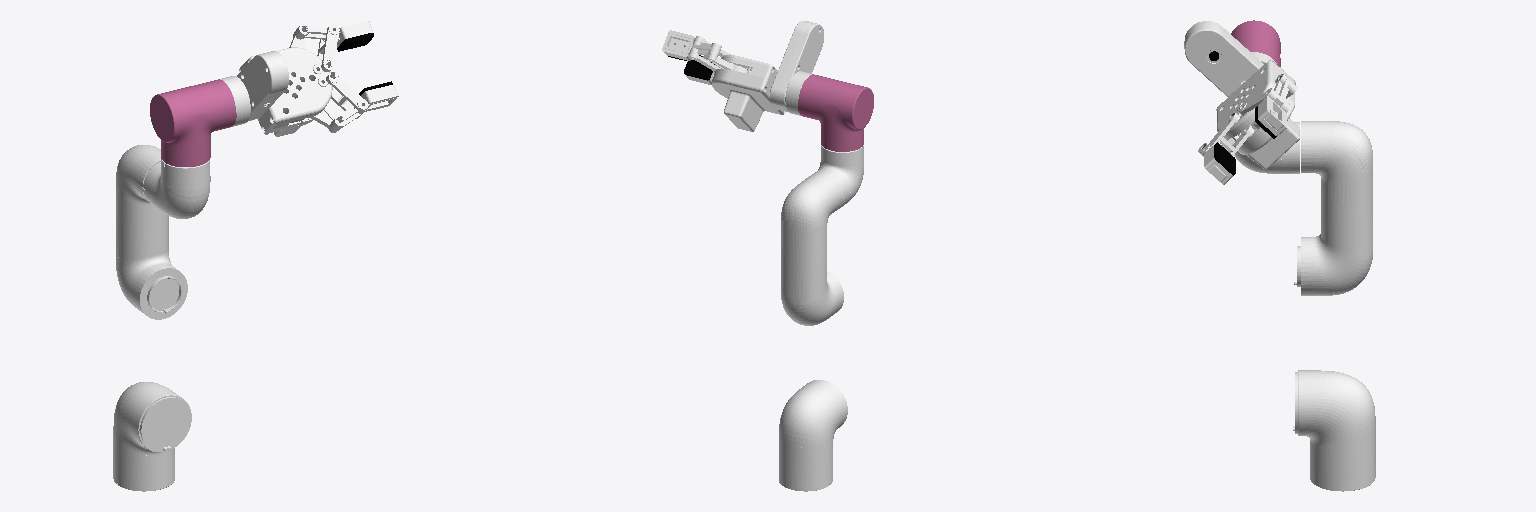
robot.urdf — mycobot_280_jn:
<?xml version="1.0"?>
<robot name="mycobot_280_jn">
  <link name="world"/>
  <joint name="world_to_joint1" type="fixed"><parent link="world"/><child link="joint1"/><origin xyz="0 0 0" rpy="0 0 0"/></joint>

  <link name="joint1">
    <visual>
      <geometry><mesh filename="package://positronic_description/urdf/mycobot_280_jn_sim/meshes/visual/joint1.dae"/></geometry>
    </visual>
    <collision>
      <geometry><mesh filename="package://positronic_description/urdf/mycobot_280_jn_sim/meshes/collision/joint1.stl"/></geometry>
    </collision>
    <inertial>
      <origin xyz="-0.000007 -0.000080 0.049738" rpy="0 0 0"/>
      <mass value="0.50875"/>
      <inertia ixx="1.2317e-03" ixy="6.9182e-09" ixz="-6.2406e-08" iyy="9.2410e-04" iyz="1.1339e-06" izz="1.1863e-03"/>
    </inertial>
  </link>
  <link name="joint2">
    <visual>
      <geometry><mesh filename="package://positronic_description/urdf/mycobot_280_jn_sim/meshes/visual/joint2.dae"/></geometry>
    </visual>
    <collision>
      <geometry><mesh filename="package://positronic_description/urdf/mycobot_280_jn_sim/meshes/collision/joint2.stl"/></geometry>
    </collision>
    <inertial>
      <origin xyz="-0.000000 -0.006642 -0.021543" rpy="0 0 0"/>
      <mass value="0.06376"/>
      <inertia ixx="4.6518e-05" ixy="-1.4217e-10" ixz="4.0220e-11" iyy="4.1988e-05" iyz="5.2079e-06" izz="2.3962e-05"/>
    </inertial>
  </link>
  <link name="joint3">
    <visual>
      <geometry><mesh filename="package://positronic_description/urdf/mycobot_280_jn_sim/meshes/visual/joint3.dae"/></geometry>
    </visual>
    <collision>
      <geometry><mesh filename="package://positronic_description/urdf/mycobot_280_jn_sim/meshes/collision/joint3.stl"/></geometry>
    </collision>
    <inertial>
      <origin xyz="-0.054329 -0.000001 0.055329" rpy="0 0 0"/>
      <mass value="0.11283"/>
      <inertia ixx="4.0982e-05" ixy="-4.4556e-09" ixz="-7.0957e-07" iyy="2.1152e-04" iyz="-8.7142e-10" izz="2.0504e-04"/>
    </inertial>
  </link>
  <link name="joint4">
    <visual>
      <geometry><mesh filename="package://positronic_description/urdf/mycobot_280_jn_sim/meshes/visual/joint4.dae"/></geometry>
    </visual>
    <collision>
      <geometry><mesh filename="package://positronic_description/urdf/mycobot_280_jn_sim/meshes/collision/joint4.stl"/></geometry>
    </collision>
    <inertial>
      <origin xyz="-0.045854 0.000000 0.007555" rpy="0 0 0"/>
      <mass value="0.08998"/>
      <inertia ixx="3.0322e-05" ixy="2.4186e-09" ixz="-2.9578e-06" iyy="1.3482e-04" iyz="1.3086e-09" izz="1.2647e-04"/>
    </inertial>
  </link>
  <link name="joint5">
    <visual>
      <geometry><mesh filename="package://positronic_description/urdf/mycobot_280_jn_sim/meshes/visual/joint5.dae"/></geometry>
    </visual>
    <collision>
      <geometry><mesh filename="package://positronic_description/urdf/mycobot_280_jn_sim/meshes/collision/joint5.stl"/></geometry>
    </collision>
    <inertial>
      <origin xyz="0.000001 -0.009519 -0.008481" rpy="0 0 0"/>
      <mass value="0.02887"/>
      <inertia ixx="1.1107e-05" ixy="2.2157e-10" ixz="1.0327e-10" iyy="8.0087e-06" iyz="1.5831e-06" izz="8.7282e-06"/>
    </inertial>
  </link>
  <link name="joint6">
    <visual>
      <geometry><mesh filename="package://positronic_description/urdf/mycobot_280_jn_sim/meshes/visual/joint6.dae"/></geometry>
    </visual>
    <collision>
      <geometry><mesh filename="package://positronic_description/urdf/mycobot_280_jn_sim/meshes/collision/joint6.stl"/></geometry>
    </collision>
    <inertial>
      <origin xyz="-0.000000 0.005619 -0.009142" rpy="0 0 0"/>
      <mass value="0.03611"/>
      <inertia ixx="1.6575e-05" ixy="1.3007e-11" ixz="9.1115e-11" iyy="1.1852e-05" iyz="-8.2298e-07" izz="1.2374e-05"/>
    </inertial>
  </link>
  <link name="joint6_flange">
    <visual>
      <geometry><mesh filename="package://positronic_description/urdf/mycobot_280_jn_sim/meshes/visual/joint6_flange.dae"/></geometry>
    </visual>
    <collision>
      <geometry><mesh filename="package://positronic_description/urdf/mycobot_280_jn_sim/meshes/collision/joint6_flange.stl"/></geometry>
    </collision>
    <inertial>
      <origin xyz="-0.000000 -0.000000 -0.005150" rpy="0 0 0"/>
      <mass value="0.00556"/>
      <inertia ixx="5.9851e-07" ixy="-5.1008e-24" ixz="1.4442e-24" iyy="5.9851e-07" iyz="-7.4388e-16" izz="1.0234e-06"/>
    </inertial>
  </link>
  <joint name="joint2_to_joint1" type="revolute">
    <parent link="joint1"/><child link="joint2"/>
    <origin xyz="0 0 0.15756" rpy="0 0 0"/>
    <axis xyz="0 0 1"/>
    <limit effort="10.0" lower="-2.9321" upper="2.9321" velocity="2.618"/>
    <dynamics damping="0.1" friction="0.01"/>
  </joint>
  <joint name="joint3_to_joint2" type="revolute">
    <parent link="joint2"/><child link="joint3"/>
    <origin xyz="0 0 -0.001" rpy="0 1.5708 -1.5708"/>
    <axis xyz="0 0 1"/>
    <limit effort="10.0" lower="-2.4434" upper="2.4434" velocity="2.618"/>
    <dynamics damping="0.1" friction="0.01"/>
  </joint>
  <joint name="joint4_to_joint3" type="revolute">
    <parent link="joint3"/><child link="joint4"/>
    <origin xyz="-0.1104 0 0" rpy="0 0 0"/>
    <axis xyz="0 0 1"/>
    <limit effort="10.0" lower="-2.6179" upper="2.6179" velocity="2.618"/>
    <dynamics damping="0.1" friction="0.01"/>
  </joint>
  <joint name="joint5_to_joint4" type="revolute">
    <parent link="joint4"/><child link="joint5"/>
    <origin xyz="-0.096 0 0.06462" rpy="0 0 -1.5708"/>
    <axis xyz="0 0 1"/>
    <limit effort="10.0" lower="-2.6179" upper="2.6179" velocity="2.618"/>
    <dynamics damping="0.1" friction="0.01"/>
  </joint>
  <joint name="joint6_to_joint5" type="revolute">
    <parent link="joint5"/><child link="joint6"/>
    <origin xyz="0 -0.07318 0" rpy="1.5708 -1.5708 0"/>
    <axis xyz="0 0 1"/>
    <limit effort="10.0" lower="-2.7052" upper="2.7925" velocity="2.618"/>
    <dynamics damping="0.1" friction="0.01"/>
  </joint>
  <joint name="joint6output_to_joint6" type="revolute">
    <parent link="joint6"/><child link="joint6_flange"/>
    <origin xyz="0 0.0456 0" rpy="-1.5708 0.7854 0"/>
    <axis xyz="0 0 1"/>
    <limit effort="10.0" lower="-3.14159" upper="3.14159" velocity="2.618"/>
    <dynamics damping="0.1" friction="0.01"/>
  </joint>
  <joint name="joint6output_to_gripper_base" type="fixed">
    <parent link="joint6_flange"/><child link="gripper_base"/>
    <!-- Mounted as on the real arm: turned 180 deg on the flange, checked at joint 6 = 0 with
         the gripper mounted (#94, docs/03_verification/joint6_zero). -->
    <origin xyz="0 0 0.0505" rpy="1.5708 0 3.1416"/>
  </joint>
  <link name="gripper_base">
    <visual>
      <geometry><mesh filename="package://positronic_description/urdf/mycobot_280_jn_sim/meshes/visual/gripper_base.dae"/></geometry>
    </visual>
    <collision>
      <geometry><mesh filename="package://positronic_description/urdf/mycobot_280_jn_sim/meshes/collision/gripper_base.stl"/></geometry>
    </collision>
    <inertial>
      <origin xyz="-0.001001 -0.003635 0.008093" rpy="0 0 0"/>
      <mass value="0.07782"/>
      <inertia ixx="3.0829e-05" ixy="5.8945e-08" ixz="1.4872e-06" iyy="3.0356e-05" iyz="-2.3616e-07" izz="3.6504e-05"/>
    </inertial>
  </link>
  <link name="gripper_left1">
    <visual>
      <geometry><mesh filename="package://positronic_description/urdf/mycobot_280_jn_sim/meshes/visual/gripper_left1.dae"/></geometry>
    </visual>
    <collision>
      <geometry><mesh filename="package://positronic_description/urdf/mycobot_280_jn_sim/meshes/collision/gripper_left1.stl"/></geometry>
    </collision>
    <inertial>
      <origin xyz="0.008214 0.028640 -0.008200" rpy="0 0 0"/>
      <mass value="0.00900"/>
      <inertia ixx="2.1380e-06" ixy="-4.4640e-07" ixz="-5.0431e-18" iyy="5.4470e-07" iyz="1.1387e-17" izz="2.1781e-06"/>
    </inertial>
  </link>
  <link name="gripper_left2">
    <visual>
      <geometry><mesh filename="package://positronic_description/urdf/mycobot_280_jn_sim/meshes/visual/gripper_left2.dae"/></geometry>
    </visual>
    <collision>
      <geometry><mesh filename="package://positronic_description/urdf/mycobot_280_jn_sim/meshes/collision/gripper_left2.stl"/></geometry>
    </collision>
    <inertial>
      <origin xyz="-0.014480 0.007475 -0.008200" rpy="0 0 0"/>
      <mass value="0.00420"/>
      <inertia ixx="2.8523e-07" ixy="2.0839e-07" ixz="3.8170e-22" iyy="5.3324e-07" iyz="-1.9085e-22" izz="5.3908e-07"/>
    </inertial>
  </link>
  <link name="gripper_left3">
    <visual>
      <geometry><mesh filename="package://positronic_description/urdf/mycobot_280_jn_sim/meshes/visual/gripper_left3.dae"/></geometry>
    </visual>
    <collision>
      <geometry><mesh filename="package://positronic_description/urdf/mycobot_280_jn_sim/meshes/collision/gripper_left3.stl"/></geometry>
    </collision>
    <inertial>
      <origin xyz="-0.007273 0.003393 -0.000700" rpy="0 0 0"/>
      <mass value="0.00288"/>
      <inertia ixx="2.0033e-07" ixy="1.2707e-07" ixz="3.3597e-22" iyy="3.5146e-07" iyz="-2.0178e-22" izz="5.3980e-07"/>
    </inertial>
  </link>
  <link name="gripper_right1">
    <visual>
      <geometry><mesh filename="package://positronic_description/urdf/mycobot_280_jn_sim/meshes/visual/gripper_right1.dae"/></geometry>
    </visual>
    <collision>
      <geometry><mesh filename="package://positronic_description/urdf/mycobot_280_jn_sim/meshes/collision/gripper_right1.stl"/></geometry>
    </collision>
    <inertial>
      <origin xyz="-0.009429 0.029012 -0.008200" rpy="0 0 0"/>
      <mass value="0.00900"/>
      <inertia ixx="2.1380e-06" ixy="4.4639e-07" ixz="-5.0440e-18" iyy="5.4470e-07" iyz="-1.1388e-17" izz="2.1781e-06"/>
    </inertial>
  </link>
  <link name="gripper_right2">
    <visual>
      <geometry><mesh filename="package://positronic_description/urdf/mycobot_280_jn_sim/meshes/visual/gripper_right2.dae"/></geometry>
    </visual>
    <collision>
      <geometry><mesh filename="package://positronic_description/urdf/mycobot_280_jn_sim/meshes/collision/gripper_right2.stl"/></geometry>
    </collision>
    <inertial>
      <origin xyz="0.013373 0.007661 -0.008200" rpy="0 0 0"/>
      <mass value="0.00420"/>
      <inertia ixx="2.9105e-07" ixy="-2.1175e-07" ixz="-4.4531e-22" iyy="5.2741e-07" iyz="3.1809e-23" izz="5.3908e-07"/>
    </inertial>
  </link>
  <link name="gripper_right3">
    <visual>
      <geometry><mesh filename="package://positronic_description/urdf/mycobot_280_jn_sim/meshes/visual/gripper_right3.dae"/></geometry>
    </visual>
    <collision>
      <geometry><mesh filename="package://positronic_description/urdf/mycobot_280_jn_sim/meshes/collision/gripper_right3.stl"/></geometry>
    </collision>
    <inertial>
      <origin xyz="0.006227 0.003481 -0.000700" rpy="0 0 0"/>
      <mass value="0.00288"/>
      <inertia ixx="2.0380e-07" ixy="-1.2918e-07" ixz="-2.1471e-22" iyy="3.4785e-07" iyz="-1.6600e-22" izz="5.3966e-07"/>
    </inertial>
  </link>
  <joint name="gripper_controller" type="revolute">
    <parent link="gripper_base"/><child link="gripper_left3"/>
    <origin xyz="-0.012 0.005 0" rpy="0 0 0"/>
    <axis xyz="0 0 1"/>
    <limit effort="10.0" lower="-0.74" upper="0.15" velocity="1.0"/>
    <dynamics damping="0.1" friction="0.01"/>
  </joint>
  <joint name="gripper_base_to_gripper_left2" type="revolute">
    <parent link="gripper_base"/><child link="gripper_left2"/>
    <origin xyz="-0.005 0.027 0" rpy="0 0 0"/>
    <axis xyz="0 0 1"/>
    <limit effort="10.0" lower="-0.8" upper="0.5" velocity="1.0"/>
    <dynamics damping="0.1" friction="0.01"/>
    <mimic joint="gripper_controller" multiplier="1.0" offset="0"/>
  </joint>
  <joint name="gripper_left3_to_gripper_left1" type="revolute">
    <parent link="gripper_left3"/><child link="gripper_left1"/>
    <origin xyz="-0.027 0.016 0" rpy="0 0 0"/>
    <axis xyz="0 0 1"/>
    <limit effort="10.0" lower="-0.5" upper="0.8" velocity="1.0"/>
    <dynamics damping="0.1" friction="0.01"/>
    <mimic joint="gripper_controller" multiplier="-1.0" offset="0"/>
  </joint>
  <joint name="gripper_base_to_gripper_right3" type="revolute">
    <parent link="gripper_base"/><child link="gripper_right3"/>
    <origin xyz="0.012 0.005 0" rpy="0 0 0"/>
    <axis xyz="0 0 1"/>
    <limit effort="10.0" lower="-0.15" upper="0.8" velocity="1.0"/>
    <dynamics damping="0.1" friction="0.01"/>
    <mimic joint="gripper_controller" multiplier="-1.0" offset="0"/>
  </joint>
  <joint name="gripper_base_to_gripper_right2" type="revolute">
    <parent link="gripper_base"/><child link="gripper_right2"/>
    <origin xyz="0.005 0.027 0" rpy="0 0 0"/>
    <axis xyz="0 0 1"/>
    <limit effort="10.0" lower="-0.5" upper="0.8" velocity="1.0"/>
    <dynamics damping="0.1" friction="0.01"/>
    <mimic joint="gripper_controller" multiplier="-1.0" offset="0"/>
  </joint>
  <joint name="gripper_right3_to_gripper_right1" type="revolute">
    <parent link="gripper_right3"/><child link="gripper_right1"/>
    <origin xyz="0.027 0.016 0" rpy="0 0 0"/>
    <axis xyz="0 0 1"/>
    <limit effort="10.0" lower="-0.8" upper="0.5" velocity="1.0"/>
    <dynamics damping="0.1" friction="0.01"/>
    <mimic joint="gripper_controller" multiplier="1.0" offset="0"/>
  </joint>
  <joint name="joint6output_to_camera_flange" type="fixed">
    <parent link="joint6_flange"/><child link="camera_flange"/>
    <!-- Camera mount (#97): the camera module 90 deg from the line the fingers open along, so
         it looks into the gap between them and the gripper does not cover the view. As on the
         real arm (docs/03_verification/camera_mount). The same in the four camera variants,
         test_camera_mount.py checks it. -->
    <origin xyz="0 0 0.01" rpy="1.5708 0 -1.5708"/>
  </joint>
  <link name="camera_flange">
    <visual>
      <geometry><mesh filename="package://positronic_description/urdf/mycobot_280_jn_sim/meshes/visual/camera_flange.dae"/></geometry>
    </visual>
    <collision>
      <geometry><mesh filename="package://positronic_description/urdf/mycobot_280_jn_sim/meshes/collision/camera_flange.stl"/></geometry>
    </collision>
    <inertial>
      <origin xyz="0.023130 0.000000 -0.000136" rpy="0 0 0"/>
      <mass value="0.03000"/>
      <inertia ixx="3.1836e-06" ixy="2.6569e-11" ixz="-3.1215e-09" iyy="1.7767e-05" iyz="4.1651e-11" izz="1.5849e-05"/>
    </inertial>
  </link>

  <link name="camera_link"/>
  <joint name="camera_flange_to_camera_link" type="fixed">
    <parent link="camera_flange"/><child link="camera_link"/>
    <!-- The roll about the optical axis puts the gripper at the bottom of the image. The raw
         image of the real camera matches it once turned 90 deg counterclockwise (#97). -->
    <origin xyz="0.0415 0.0083 0.0000" rpy="1.5708 0 1.5708"/>
  </joint>
  <gazebo reference="camera_link">
    <sensor name="wrist_camera" type="camera">
      <always_on>1</always_on><update_rate>30</update_rate><visualize>true</visualize>
      <topic>wrist_camera/image_raw</topic>
      <camera>
        <horizontal_fov>1.047</horizontal_fov>
        <image><width>640</width><height>480</height><format>R8G8B8</format></image>
        <clip><near>0.02</near><far>5.0</far></clip>
      </camera>
    </sensor>
  </gazebo>

  <gazebo reference="joint2"><turnGravityOff>true</turnGravityOff></gazebo>
  <gazebo reference="joint3"><turnGravityOff>true</turnGravityOff></gazebo>
  <gazebo reference="joint4"><turnGravityOff>true</turnGravityOff></gazebo>
  <gazebo reference="joint5"><turnGravityOff>true</turnGravityOff></gazebo>
  <gazebo reference="joint6"><turnGravityOff>true</turnGravityOff></gazebo>
  <gazebo reference="joint6_flange"><turnGravityOff>true</turnGravityOff></gazebo>
  <gazebo reference="gripper_base"><turnGravityOff>true</turnGravityOff></gazebo>
  <gazebo reference="gripper_left1"><turnGravityOff>true</turnGravityOff></gazebo>
  <gazebo reference="gripper_left2"><turnGravityOff>true</turnGravityOff></gazebo>
  <gazebo reference="gripper_left3"><turnGravityOff>true</turnGravityOff></gazebo>
  <gazebo reference="gripper_right1"><turnGravityOff>true</turnGravityOff></gazebo>
  <gazebo reference="gripper_right2"><turnGravityOff>true</turnGravityOff></gazebo>
  <gazebo reference="gripper_right3"><turnGravityOff>true</turnGravityOff></gazebo>
  <gazebo reference="camera_flange"><turnGravityOff>true</turnGravityOff></gazebo>
</robot>

--- What the picture shows (computed from the rendered views, not written in the file) ---
The picture shows the robot from 3 angles, left to right: view 1: azimuth 30°, elevation 25°; view 2: azimuth 150°, elevation 25°; view 3: azimuth 270°, elevation 25°; orthographic projection.
Robot: mycobot_280_jn — 17 links, 16 joints (12 revolute, 4 fixed); root link world; default pose: all joints at 0.
Links seen in each view (by area): view 1: joint4, joint2, joint6, gripper_base, joint5, camera_flange, gripper_right1, gripper_left1, gripper_left2, joint6_flange, gripper_right2; view 2: joint4, joint2, joint6, gripper_base, camera_flange, joint5, gripper_right1, joint6_flange; view 3: joint4, joint2, gripper_base, camera_flange, gripper_right1, joint6, joint5, gripper_left1, gripper_left2.
Link boxes in pixels (x1,y1,x2,y2): joint4: (116,145,187,319); joint2: (113,382,191,491); joint6: (150,79,236,166); gripper_base: (239,47,332,136); joint5: (143,159,210,218); camera_flange: (237,51,288,120); gripper_right1: (295,20,373,51); gripper_left1: (330,81,398,130); gripper_left2: (326,72,368,118); joint6_flange: (220,76,250,126); gripper_right2: (317,24,339,71); joint4: (781,173,843,325); joint2: (779,380,847,491); joint6: (798,74,873,151); gripper_base: (712,55,785,131); camera_flange: (770,21,823,111); joint5: (814,145,863,210); gripper_right1: (662,30,721,61); joint6_flange: (785,71,814,115); joint4: (1294,121,1372,295); joint2: (1293,370,1375,491); gripper_base: (1216,60,1299,169); camera_flange: (1184,21,1263,96); gripper_right1: (1255,74,1292,138); joint6: (1231,20,1280,66); joint5: (1234,122,1299,173); gripper_left1: (1198,142,1235,184); gripper_left2: (1201,112,1254,155).
Size in the robot's own frame: 0.1947 by 0.1397 by 0.3938 metres.
13 mesh visuals loaded from 15 distinct referenced files (13 Collada DAE); not drawn: 2 (reference not matched to a file when rendering).
